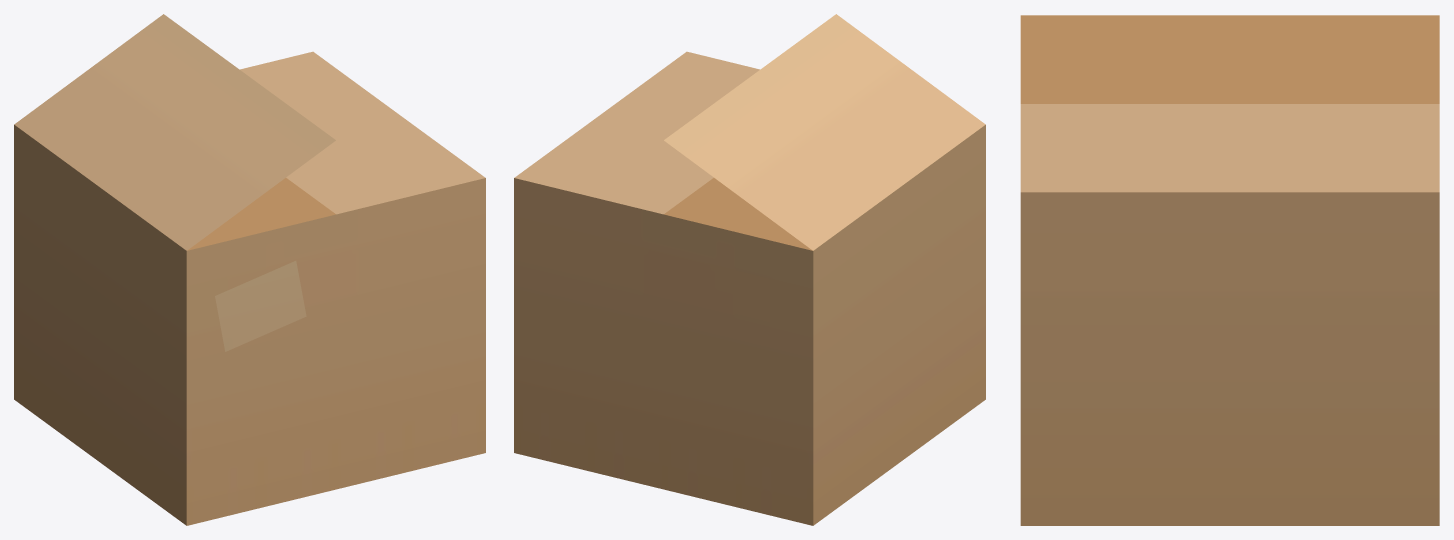
The model's file is kaykit-city-builder-bits-box-b.glb.
The picture shows the model from 3 angles, left to right: view 1: azimuth 30°, elevation 25°; view 2: azimuth 150°, elevation 25°; view 3: azimuth 270°, elevation 25°; orthographic projection. The views are drawn at different scales.
Visible parts, largest first — view 1: box_B; view 2: box_B; view 3: box_B.
Part boxes in pixels (x1,y1,x2,y2): box_B: (14, 14, 485, 525); box_B: (514, 14, 985, 525); box_B: (1020, 15, 1439, 525).
Bounding box in the file's own units: 0.1521 × 0.1696 × 0.1544.
Materials: 1 (1 with a texture image).
